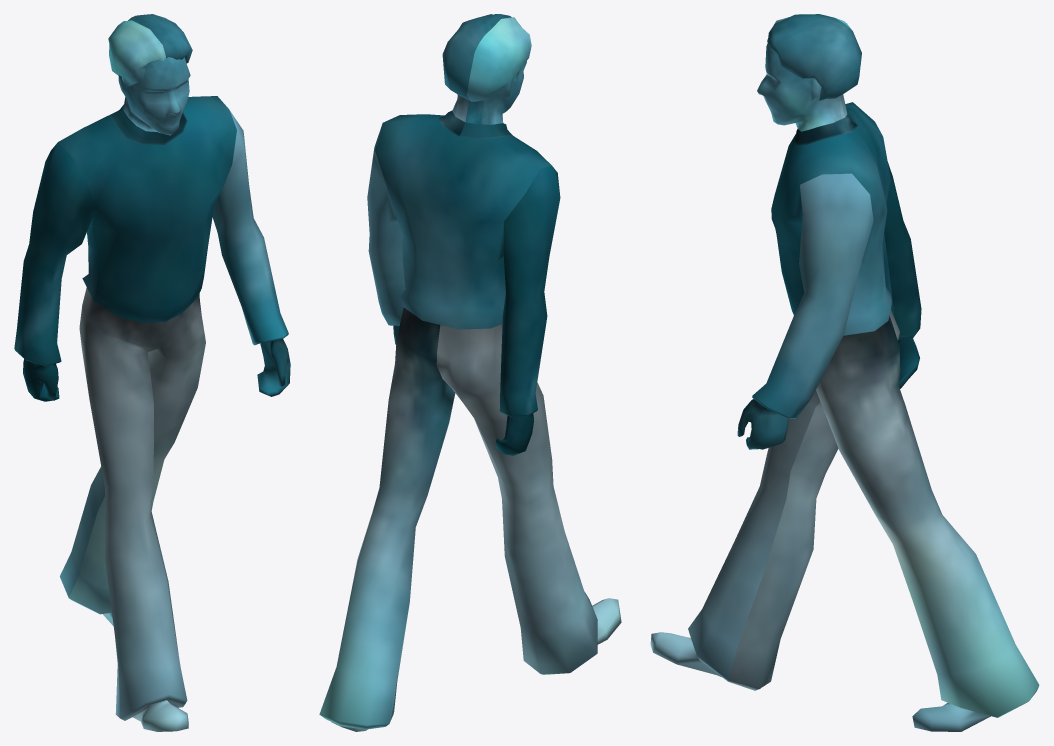
The model's file is simpleMan12.obj.
3 renders of one model, left to right at view 1: azimuth 30°, elevation 25°; view 2: azimuth 150°, elevation 25°; view 3: azimuth 270°, elevation 25°, orthographic. The views are drawn at different scales.
Parts seen in each view (by area): view 1: uomo; view 2: uomo; view 3: uomo.
Boxes of the visible parts, left/top/right/bottom form: uomo: left=14, top=14, right=290, bottom=731; uomo: left=319, top=14, right=621, bottom=731; uomo: left=650, top=14, right=1039, bottom=731.
Bounding box in the file's own units: 1.58 × 4.89 × 2.51.
1 material, 1 textured.
